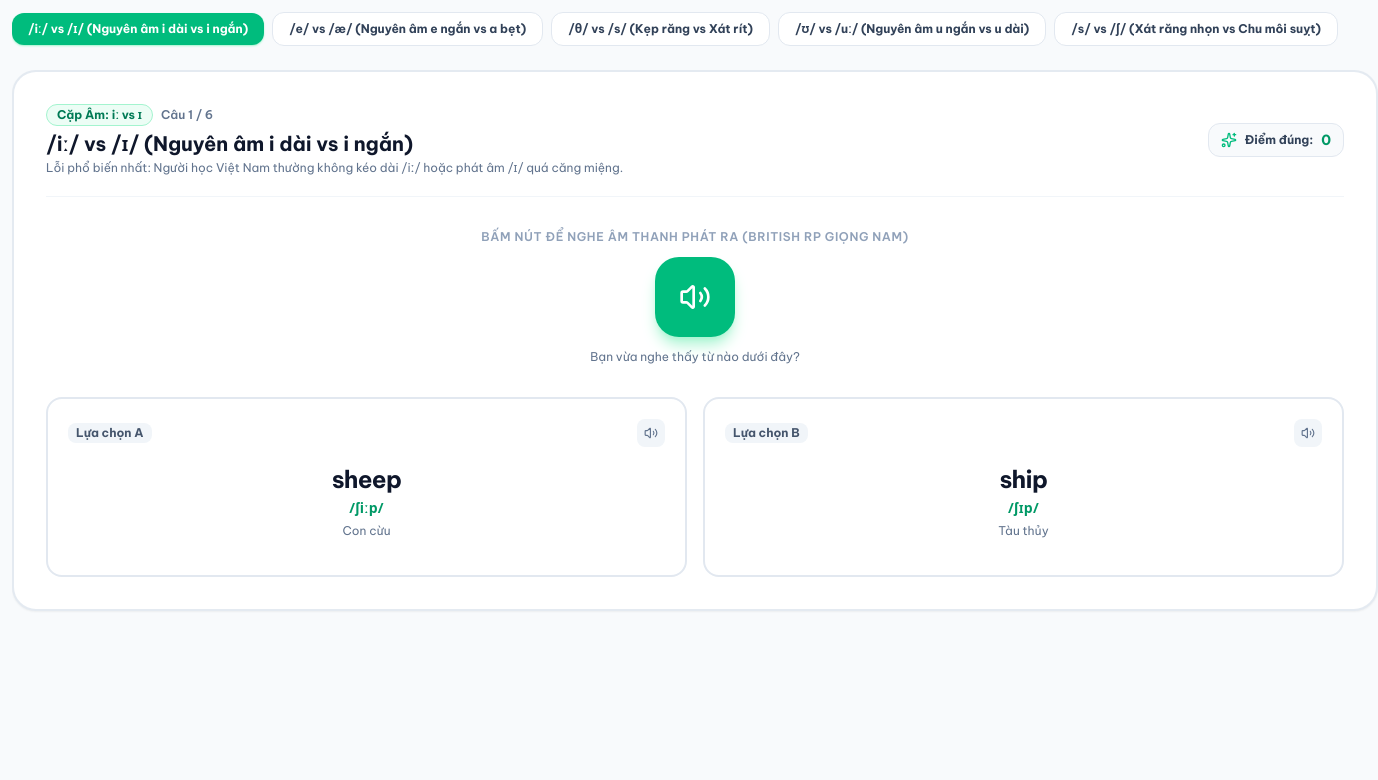
Test: IPA Module Frontend UI/UX Acceptance Suite › IPA-05: Minimal pairs practice correctly evaluates user choices
Expected: the text "Lựa chọn B" is shown, x1=725 y1=423 x2=808 y2=443
// Click option A
What coordinates should you click on to do the following:
click the text "Lựa chọn A"
I would click on:
 (110, 433)
Its box is x1=68 y1=423 x2=152 y2=443.
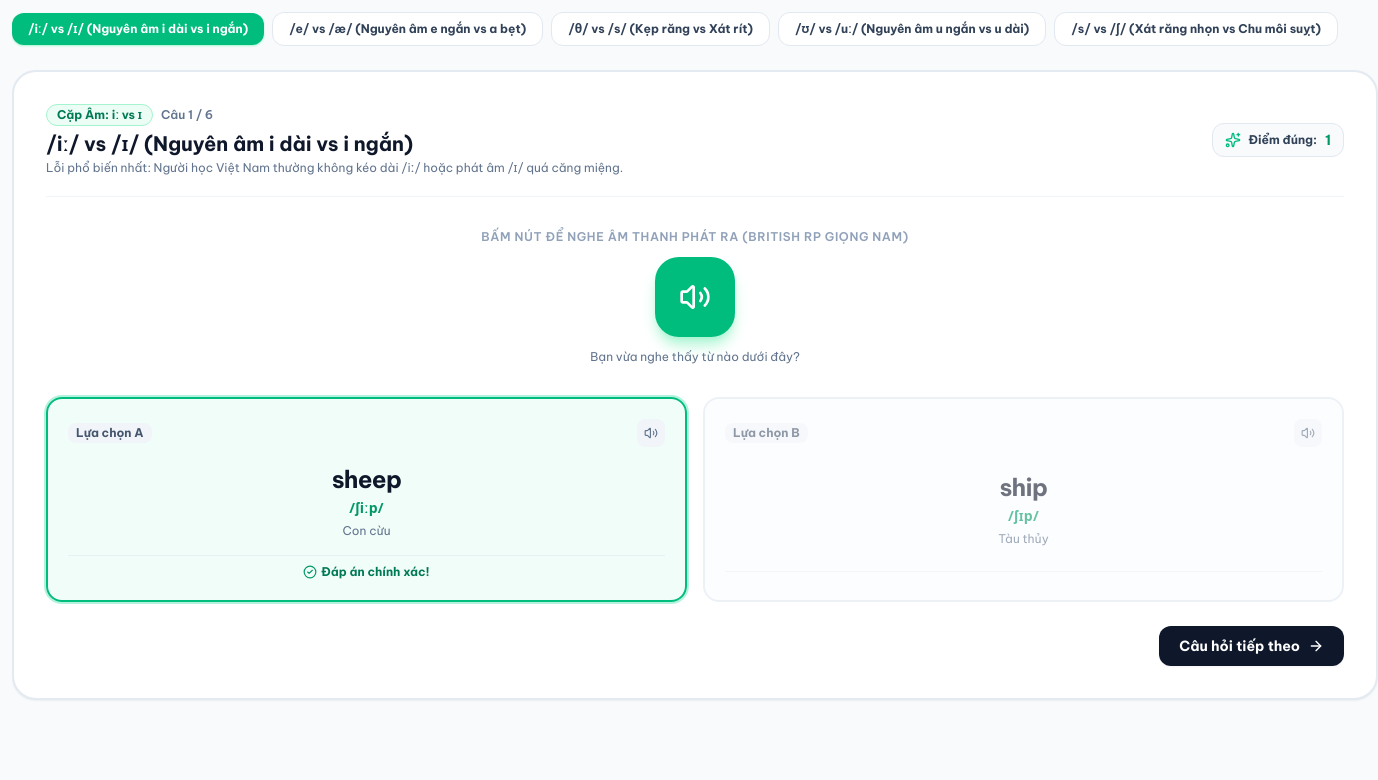
Expected: the text "Câu hỏi tiếp theo" is shown, x1=1179 y1=636 x2=1300 y2=656
